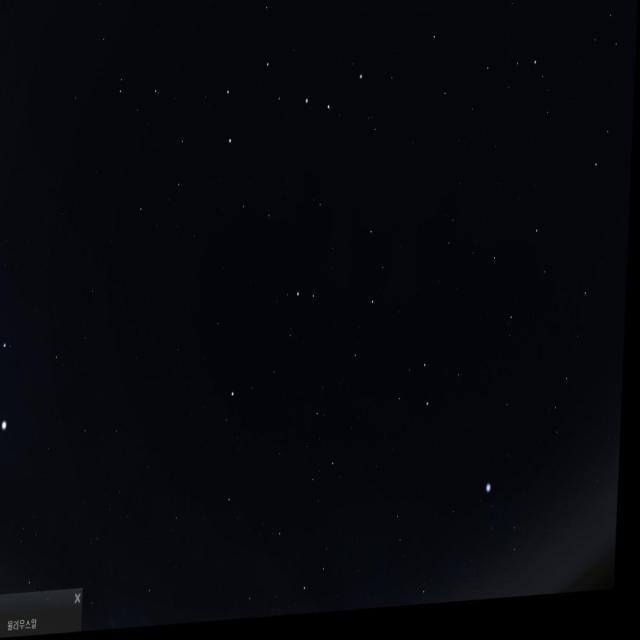lyra: (484, 478, 529, 574)
ursa_major: (216, 40, 370, 166)
